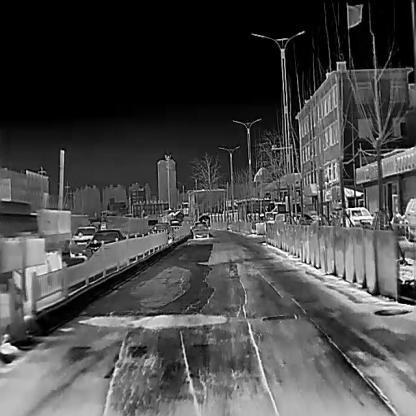car: (0, 167, 47, 319), (85, 229, 126, 261), (69, 225, 98, 257), (399, 194, 415, 243), (339, 206, 374, 227), (274, 212, 316, 224), (151, 222, 172, 240), (192, 221, 209, 238), (170, 220, 180, 228)
